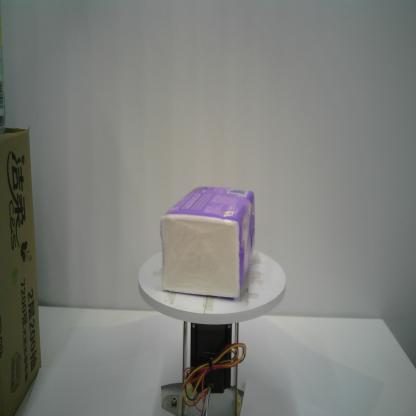Tissue: (157, 182, 258, 302)
